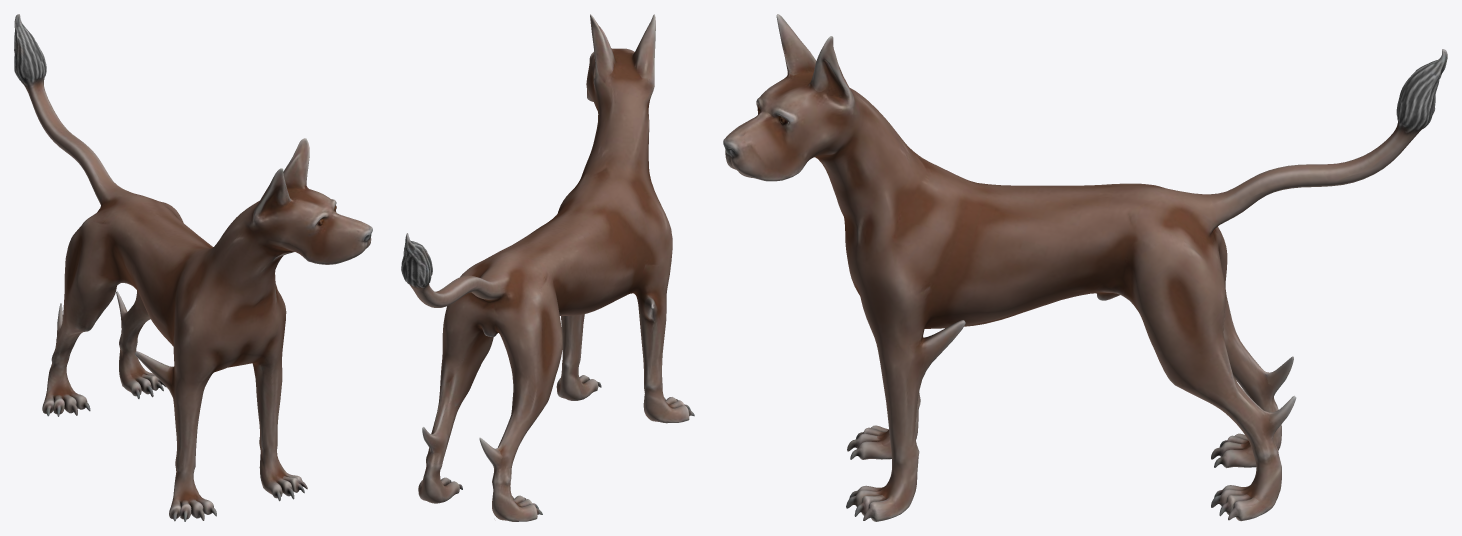
Rendered from MZ4250 - Blink Dog.glb.
3 renders of one model, left to right at view 1: azimuth 30°, elevation 25°; view 2: azimuth 150°, elevation 25°; view 3: azimuth 270°, elevation 25°, orthographic. The views are drawn at different scales.
Parts seen in each view (by area): view 1: Greatdane.001; view 2: Greatdane.001; view 3: Greatdane.001.
Part boxes in pixels (x1,y1,x2,y2): Greatdane.001: (14, 14, 372, 521); Greatdane.001: (401, 14, 694, 521); Greatdane.001: (723, 14, 1447, 521).
Size of the model in its own units: 11.47 by 26.99 by 36.88.
Materials: 1 (1 with a texture image).
